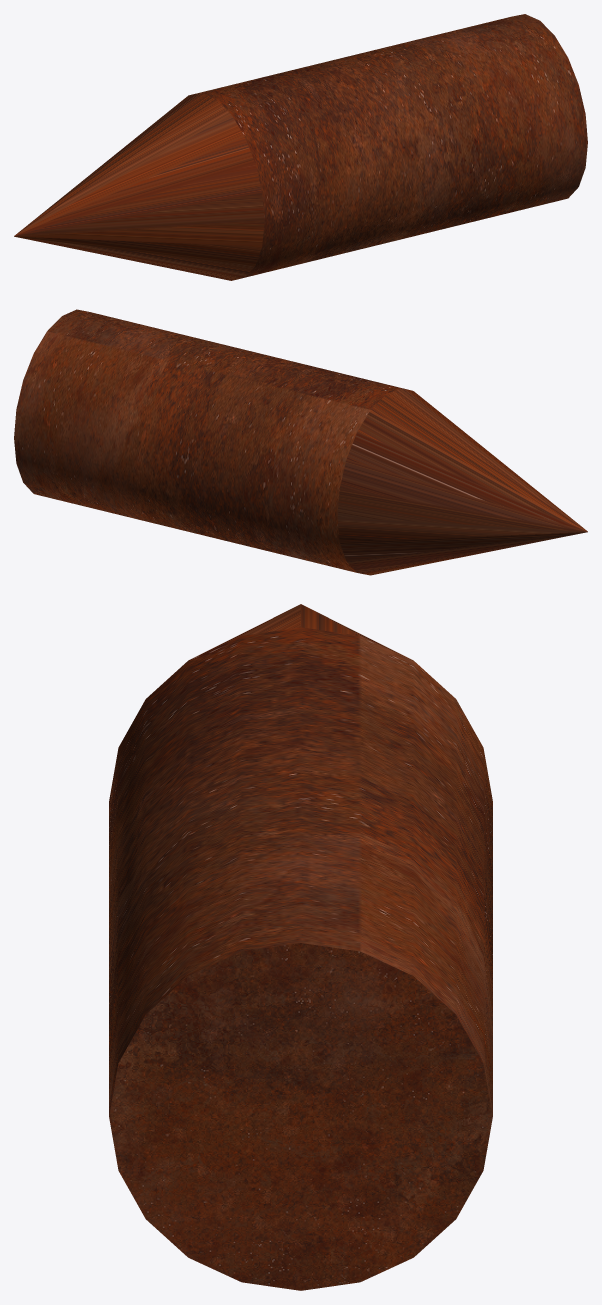
The model's file is nail_temp.glb.
3 renders of one model, top to bottom at view 1: azimuth 30°, elevation 25°; view 2: azimuth 150°, elevation 25°; view 3: azimuth 270°, elevation 25°, orthographic. The views are drawn at different scales.
Parts seen in each view (by area): view 1: nail; view 2: nail; view 3: nail.
Boxes of the visible parts, x1,y1,x2,y2 form: nail: (14, 14, 587, 280); nail: (14, 309, 587, 575); nail: (109, 604, 492, 1290).
Bounding box in the file's own units: 4.2 × 1.34 × 1.33.
Materials: 1 (1 with a texture image).
